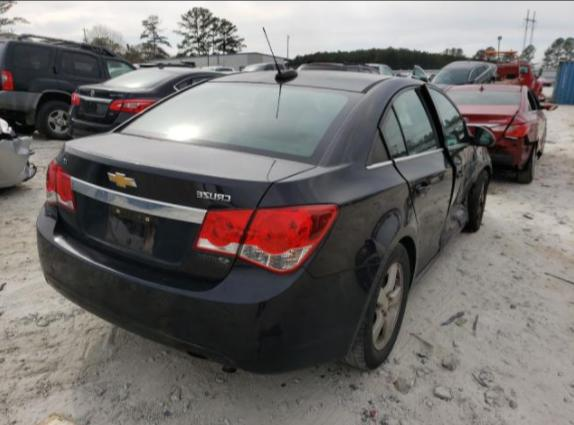Broken part: (413, 81, 474, 251), (375, 94, 417, 223)
Dent: (405, 166, 454, 225)
Missing part: (78, 193, 196, 259)
